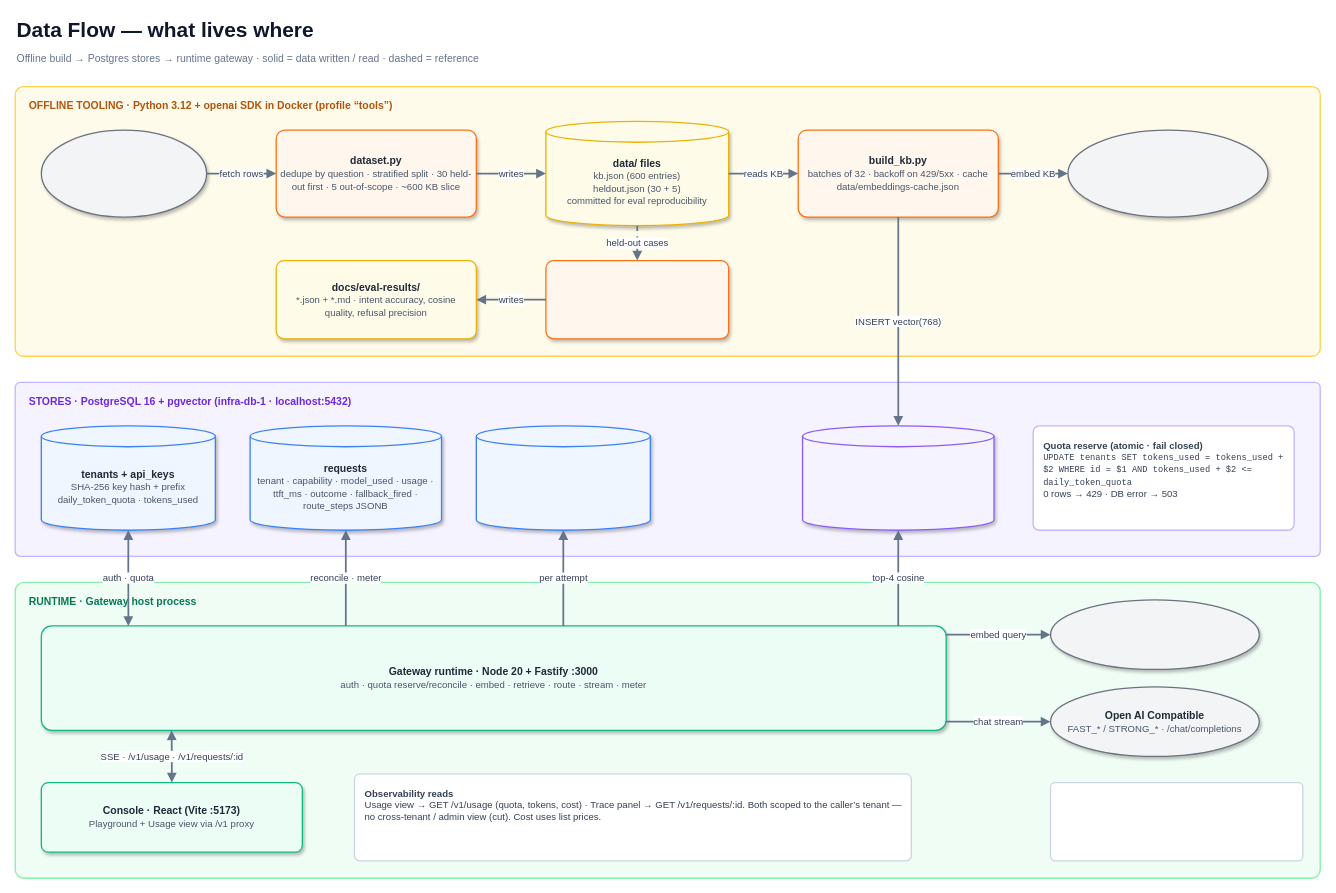
The diagram is 1336 pixels wide and 893 high, and some of its shapes have lost their labels. Each missing label, with the centre of its shape:
Eval runner heldout.json · Config A vs B · via gateway-a / gateway-b: the point at 637,300
Gemini embeddings API gemini-embedding-001 · 768-dim: the point at 1168,174
Gemini embeddings query-time · 768-dim: the point at 1155,635
HuggingFace Bitext customer-support dataset · 57k rows · 27 intents: the point at 124,174
kb_entries question · answer · intent vector(768) · HNSW cosine: the point at 898,479
LEGEND ■ tooling ■ files ■ tables ■ vectors ■ runtime ■ external: the point at 1176,821
routing_attempts attempt n · backend · reason · outcome · latency_ms · error: the point at 564,479
